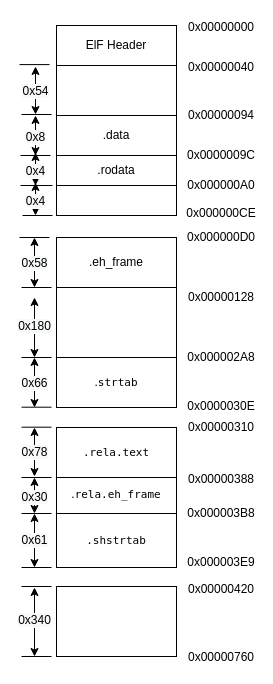
Some shapes in this 273 by 684 pixel diagram are drawn without their labels. The box of each missing label's shape, as (x1, y1, x2, y2) in pixels:
. comment: (56, 184, 176, 216)
.syntab: (56, 286, 176, 368)
.text: (56, 64, 176, 126)
section table: (56, 586, 176, 656)
